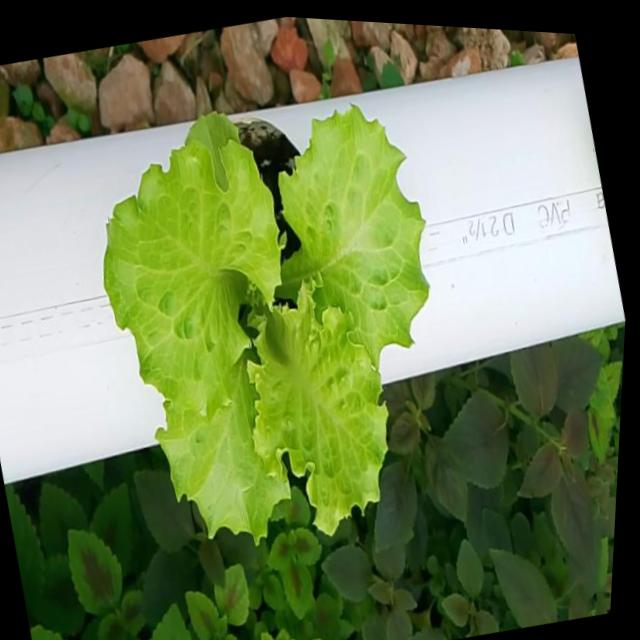Baby: (108, 119, 431, 552)
